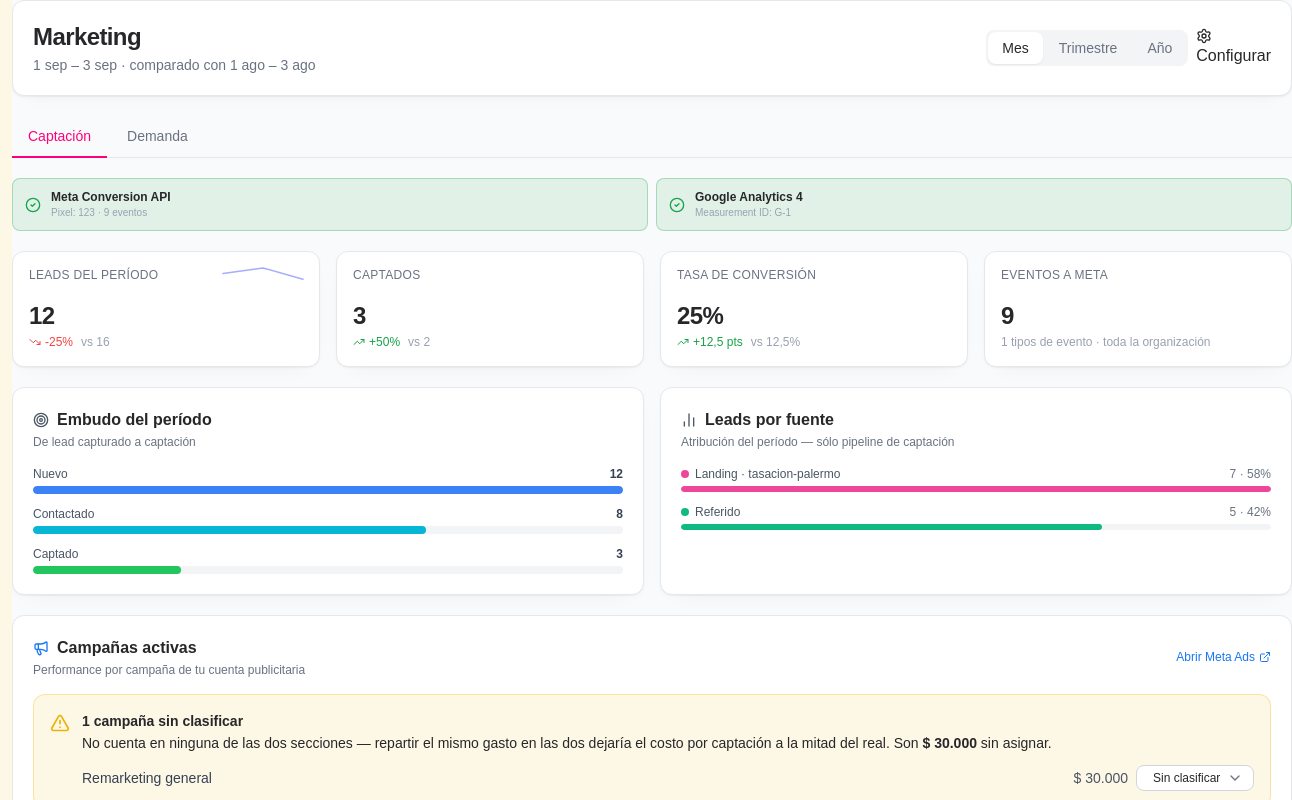
Test case: Panel de Marketing — Demanda › cambia el pipeline de todas las series
Click the tab "Demanda" at (157, 137), box [111,116,204,158]
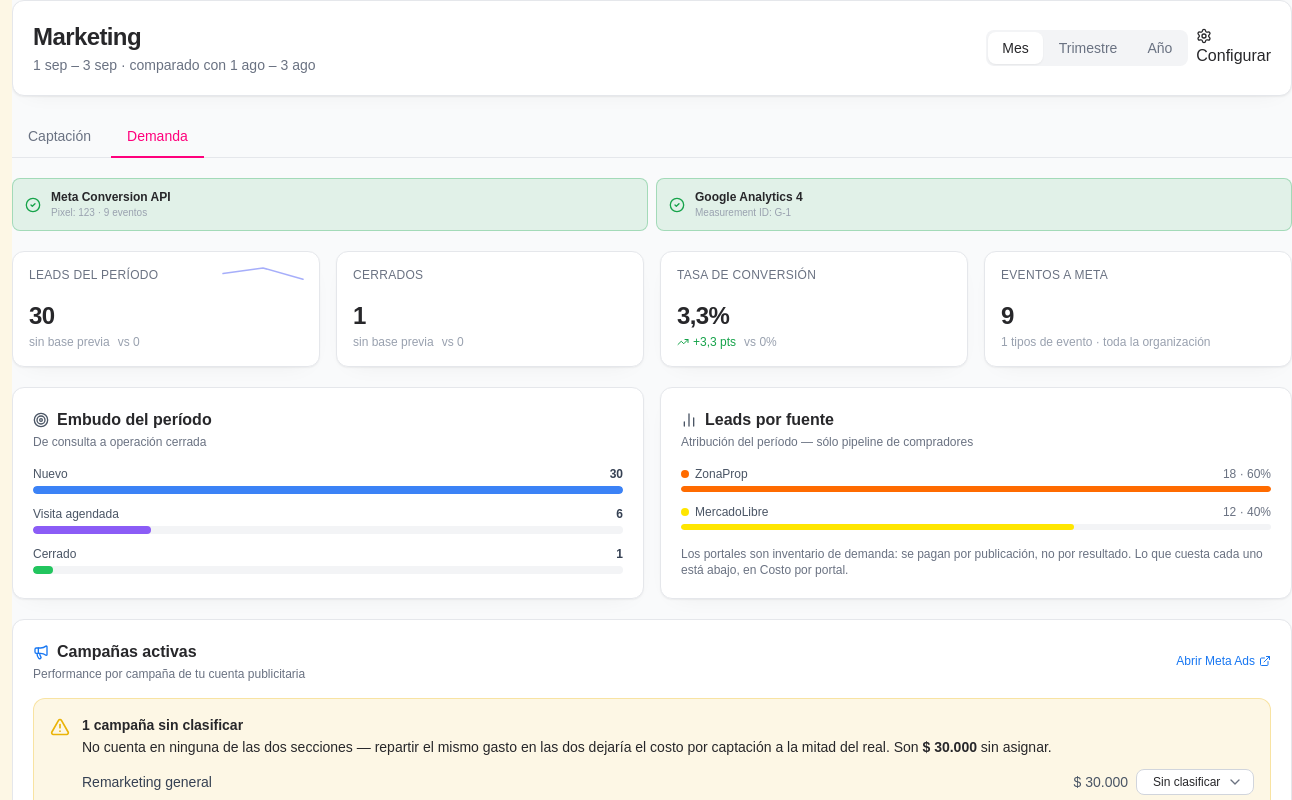
Expected: the text "Visita agendada" is shown, [33,506,119,522]
Expected: the text "MercadoLibre" is shown, [695,504,768,520]
